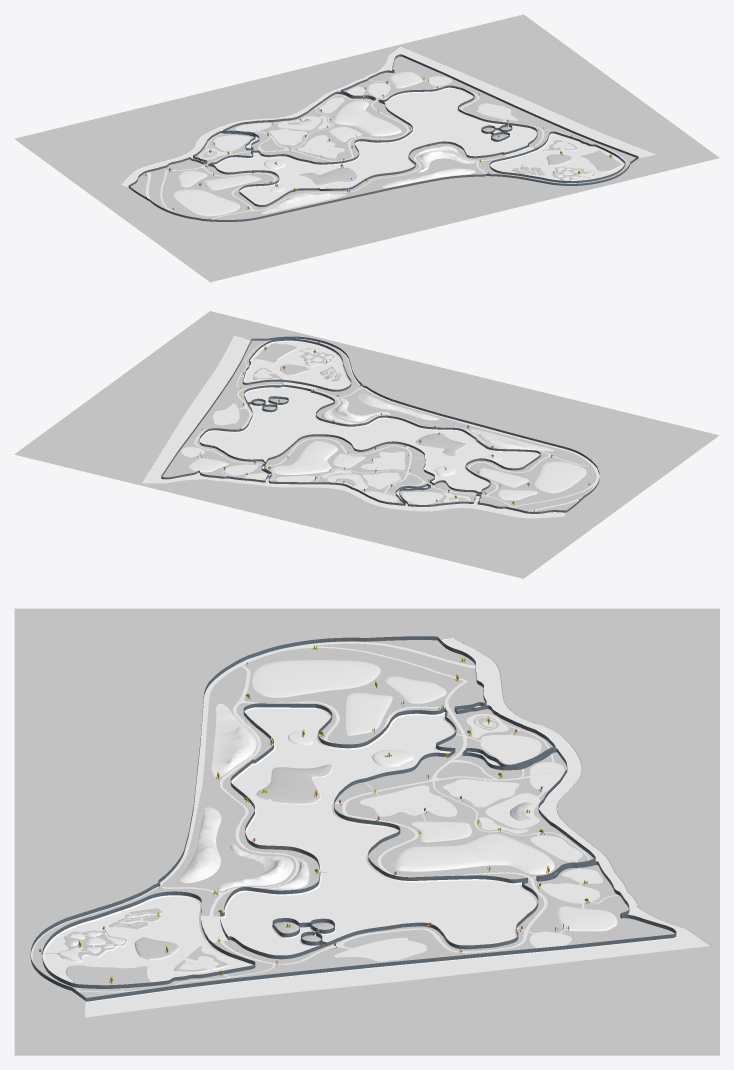
3 views of the same model, one above another, from view 1: azimuth 30°, elevation 25°; view 2: azimuth 150°, elevation 25°; view 3: azimuth 270°, elevation 25° (orthographic). The views are drawn at different scales.
Parts seen in each view (by area): view 1: Model, airwater01_1, airwall04_1, Group8, Group28, airwater03_1, Group9, Group3, Group1; view 2: Model, Group8, airwater01_1, airwall04_1, Group28, Group9, airwater03_1, Group3, Group1; view 3: Model, Group8, airwater01_1, airwall04_1, Group28, airwater03_1, Group9, Group3, Group1, Group29, airwater02_1.
Part boxes in pixels (left/top/right/bottom): Model: left=14, top=14, right=719, bottom=282; airwater01_1: left=208, top=85, right=537, bottom=207; airwall04_1: left=129, top=54, right=637, bottom=186; Group8: left=145, top=86, right=544, bottom=219; Group28: left=332, top=100, right=401, bottom=136; airwater03_1: left=489, top=131, right=625, bottom=182; Group9: left=213, top=87, right=537, bottom=191; Group3: left=382, top=168, right=475, bottom=187; Group1: left=418, top=150, right=474, bottom=172; Model: left=14, top=311, right=719, bottom=578; Group8: left=194, top=384, right=599, bottom=511; airwater01_1: left=199, top=384, right=540, bottom=494; airwall04_1: left=161, top=339, right=565, bottom=513; Group28: left=270, top=440, right=338, bottom=474; Group9: left=200, top=386, right=539, bottom=491; airwater03_1: left=242, top=338, right=351, bottom=391; Group3: left=358, top=393, right=439, bottom=420; Group1: left=333, top=398, right=389, bottom=421; Model: left=14, top=607, right=719, bottom=1055; Group8: left=159, top=641, right=563, bottom=964; airwater01_1: left=220, top=703, right=538, bottom=959; airwall04_1: left=86, top=637, right=676, bottom=1001; Group28: left=393, top=833, right=554, bottom=874; airwater03_1: left=42, top=891, right=255, bottom=988; Group9: left=220, top=707, right=538, bottom=937; Group3: left=180, top=807, right=221, bottom=883; Group1: left=218, top=844, right=293, bottom=890; Group29: left=557, top=906, right=617, bottom=931; airwater02_1: left=272, top=918, right=334, bottom=946.
Size of the model in its own units: 1201 by 40.9 by 801.
